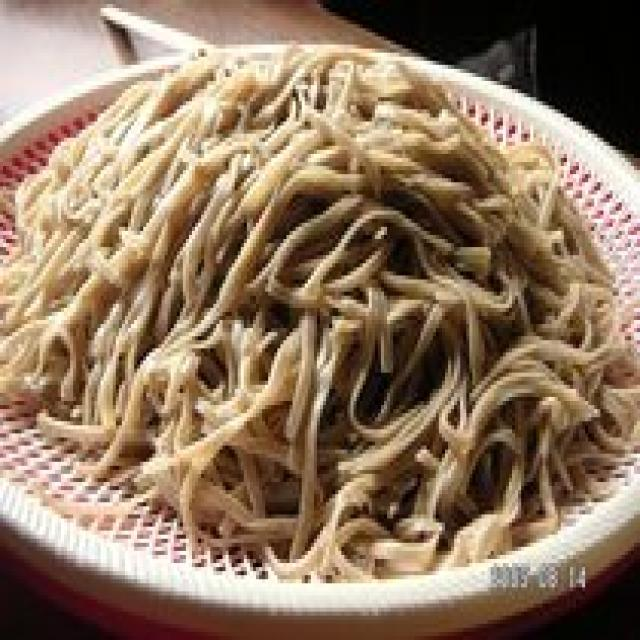面条主食: (0, 24, 640, 640)
